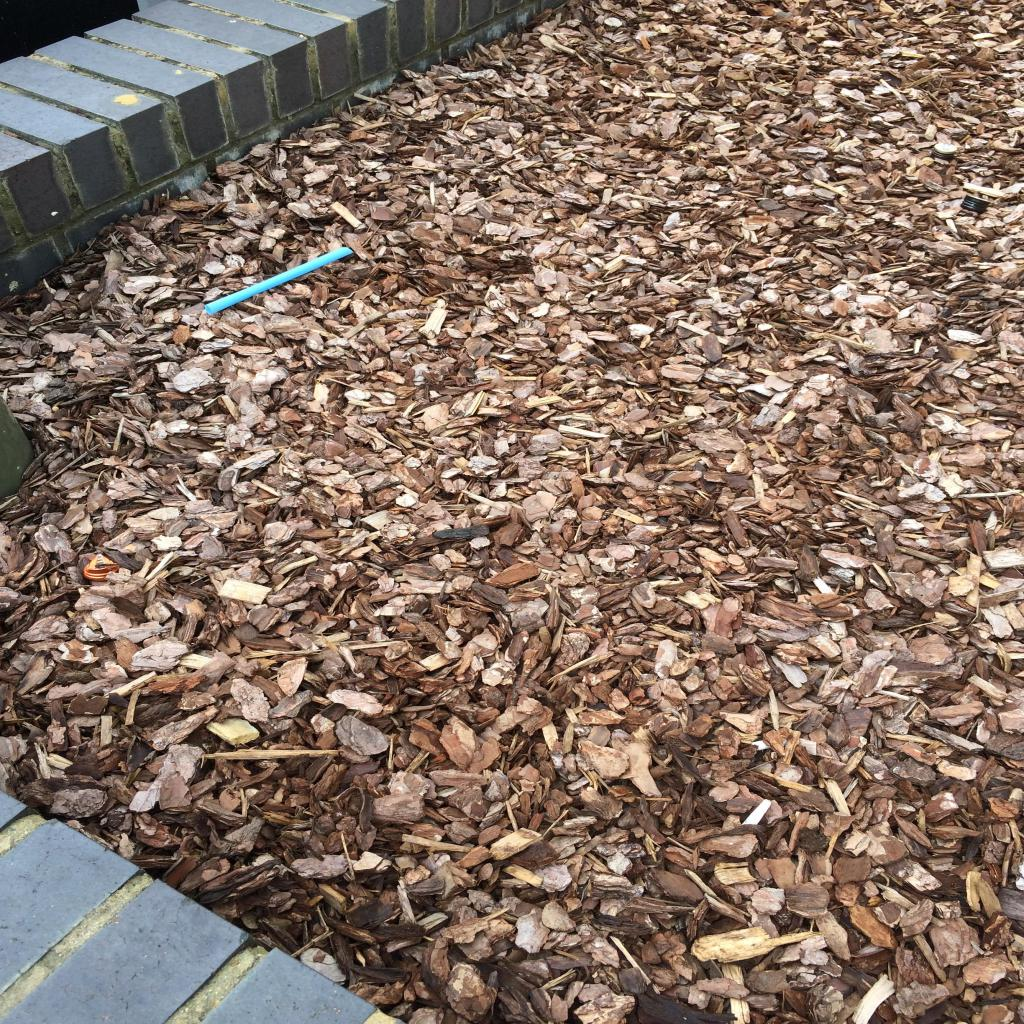Metal bottle cap: (960, 195, 990, 213), (932, 144, 956, 158)
Plastic straw: (205, 248, 353, 314)
